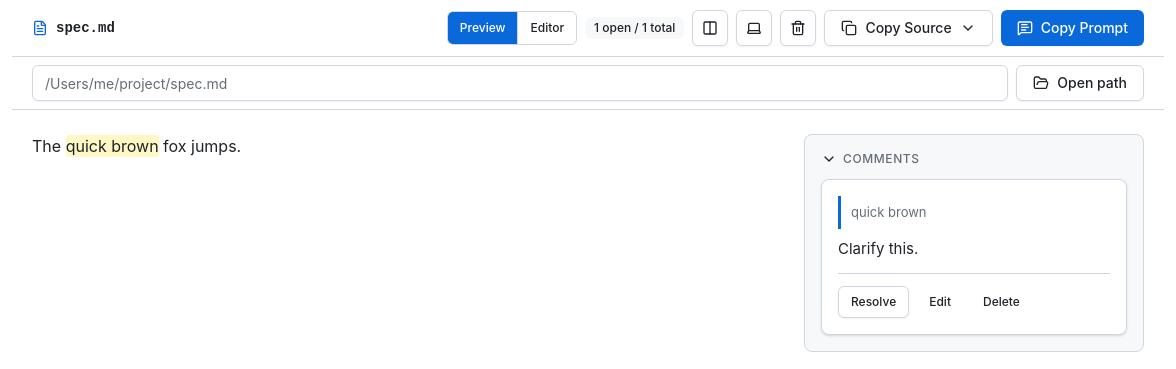
Test: App editor mode › hides the comments sidebar in Editor mode
The width and height of the screenshot is (1176, 369).
Check: the text "Clarify this." is shown, box [838,239,918,258]
What coordinates should you click on to do the following:
click the button "Editor"
I would click on:
 (547, 28)
Its box is [518,12,576,44].
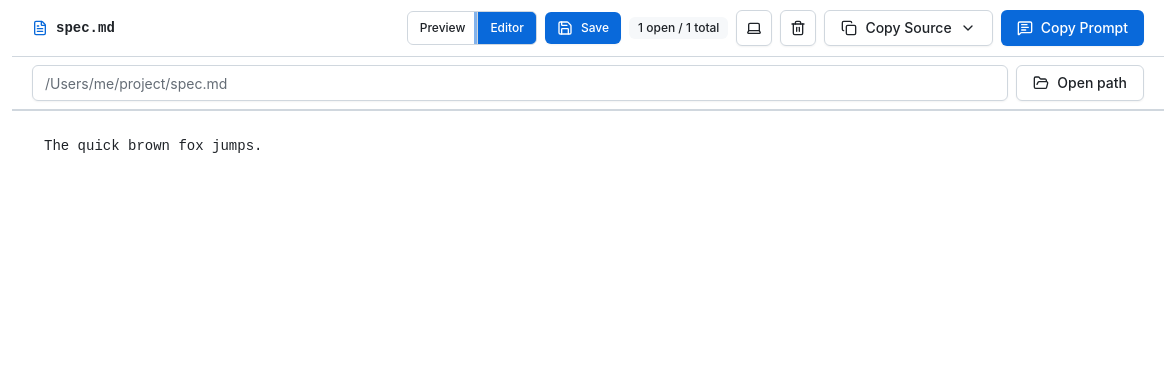
Check: the element with class "rmd-sidebar" is gone
